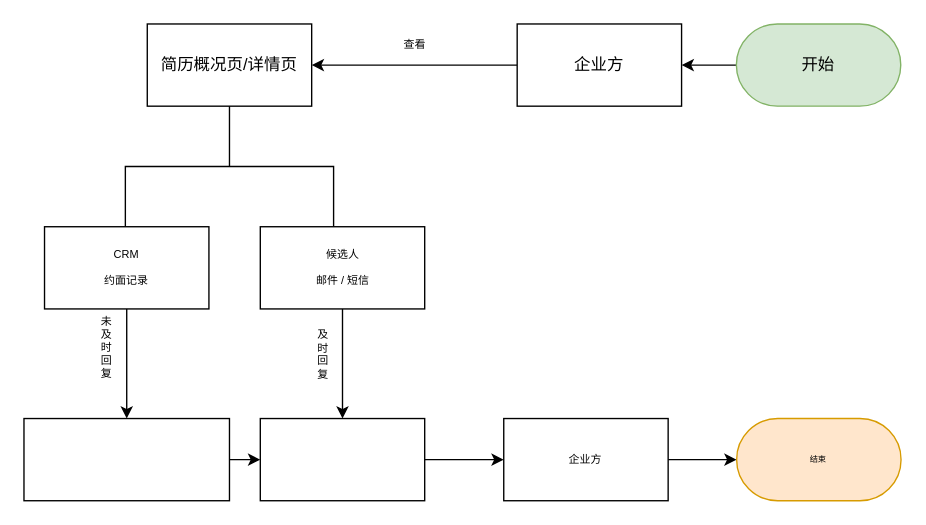
This 926x525 diagram has some shape labels left out. Here are the shapes that lost their labels. From the top down, the centre of each, then its label:
the point at 229,166: 发请求
the point at 126,459: 顾问联系该人选 是否同意发送联系方式
the point at 342,459: 微信推送
